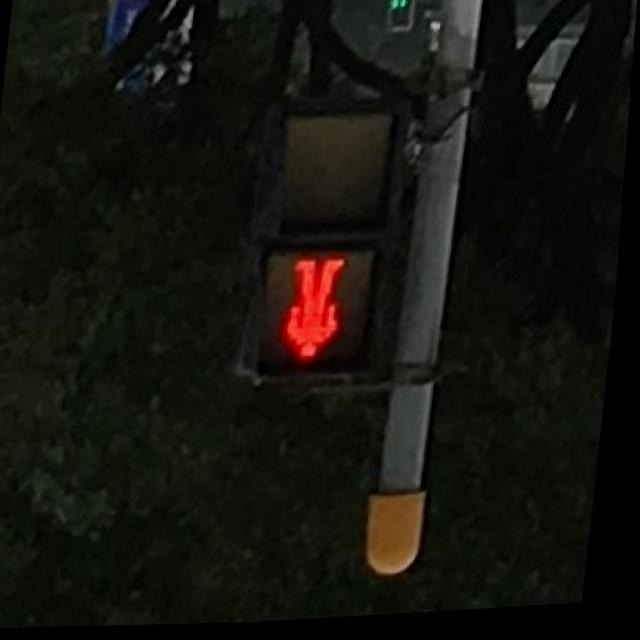red_light: (262, 251, 383, 380)
